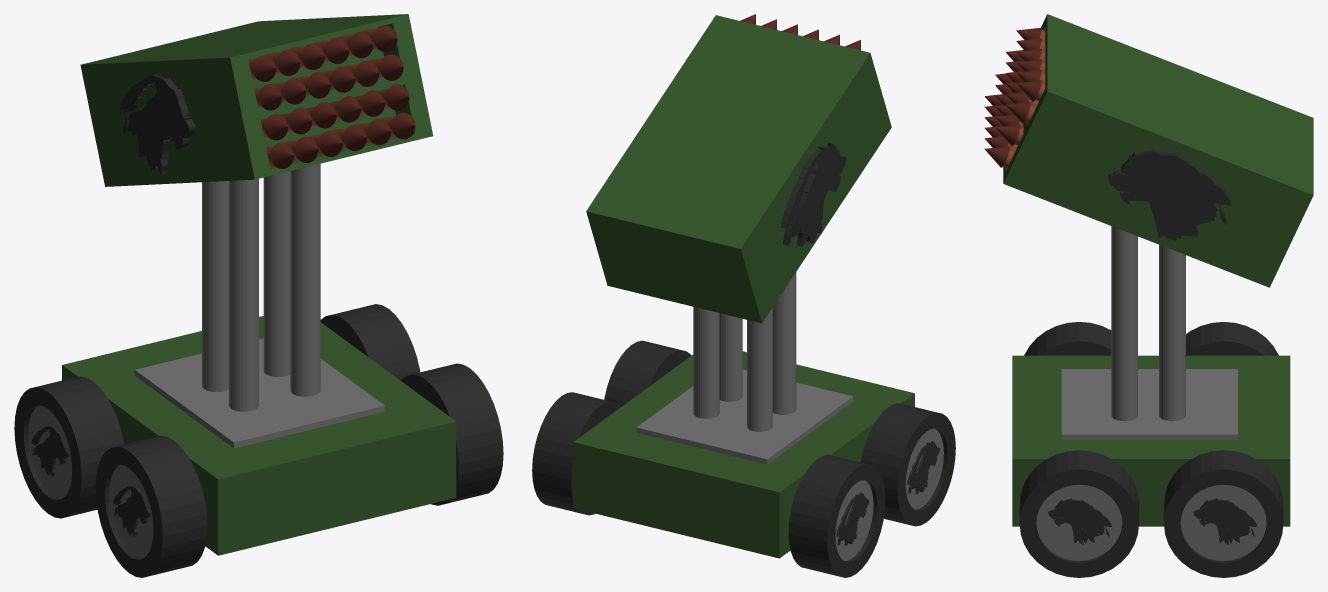
File: Balista-dalekosiężny-woz.fbx
The picture shows the model from 3 angles, left to right: view 1: azimuth 30°, elevation 25°; view 2: azimuth 150°, elevation 25°; view 3: azimuth 270°, elevation 25°; orthographic projection. The views are drawn at different scales.
Visible parts, largest first — view 1: kabina, podstawa, koła, rakiety, metalowa podstawa; view 2: kabina, podstawa, koła, metalowa podstawa, rakiety; view 3: kabina, koła, podstawa, metalowa podstawa, rakiety.
Part boxes in pixels (x1,y1,x2,y2): kabina: (80, 14, 433, 411); podstawa: (62, 316, 456, 555); koła: (14, 304, 503, 577); rakiety: (248, 25, 415, 168); metalowa podstawa: (134, 338, 384, 448); kabina: (586, 15, 891, 431); podstawa: (573, 351, 914, 558); koła: (532, 340, 955, 577); metalowa podstawa: (636, 369, 853, 464); rakiety: (740, 14, 860, 50); kabina: (1003, 14, 1313, 421); koła: (1019, 322, 1283, 577); podstawa: (1012, 355, 1290, 526); metalowa podstawa: (1061, 369, 1237, 439); rakiety: (984, 27, 1045, 167).
Bounding box in the file's own units: 659 × 940 × 620.
